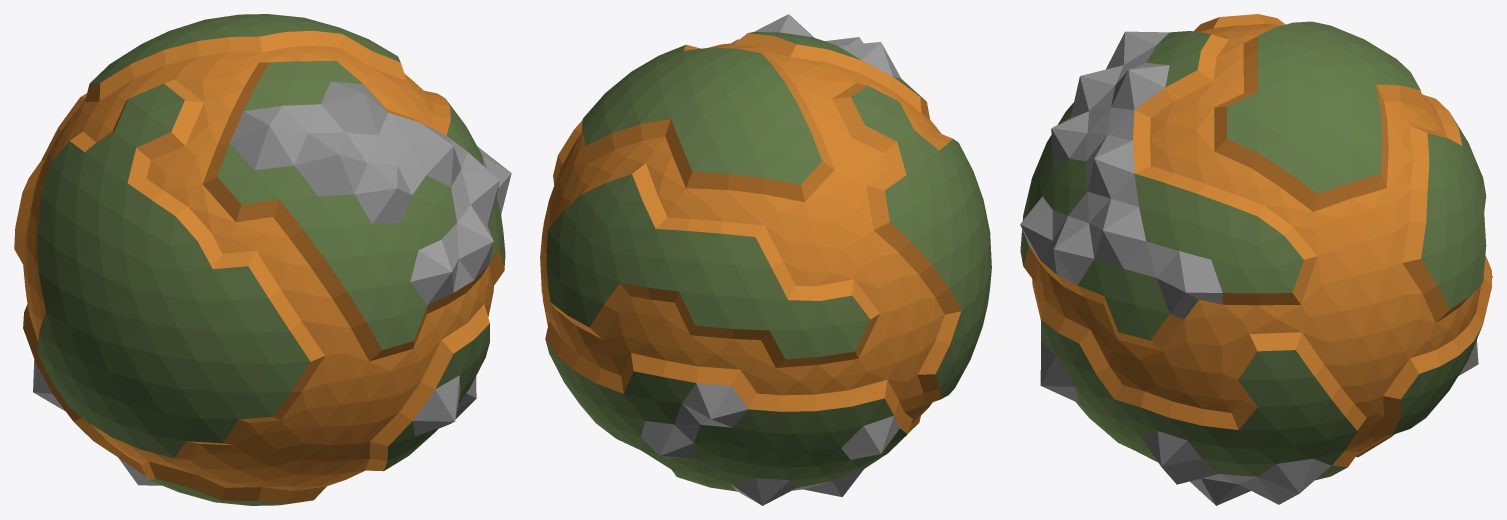
File: Planet2.1.fbx
The picture shows the model from 3 angles, left to right: view 1: azimuth 30°, elevation 25°; view 2: azimuth 150°, elevation 25°; view 3: azimuth 270°, elevation 25°; orthographic projection. The views are drawn at different scales.
Visible parts, largest first — view 1: Icosphere; view 2: Icosphere; view 3: Icosphere.
Boxes of the visible parts, x1,y1,x2,y2 form: Icosphere: [14, 14, 511, 505]; Icosphere: [540, 14, 991, 505]; Icosphere: [1020, 14, 1492, 505].
Size of the model in its own units: 1004 by 1000 by 997.
